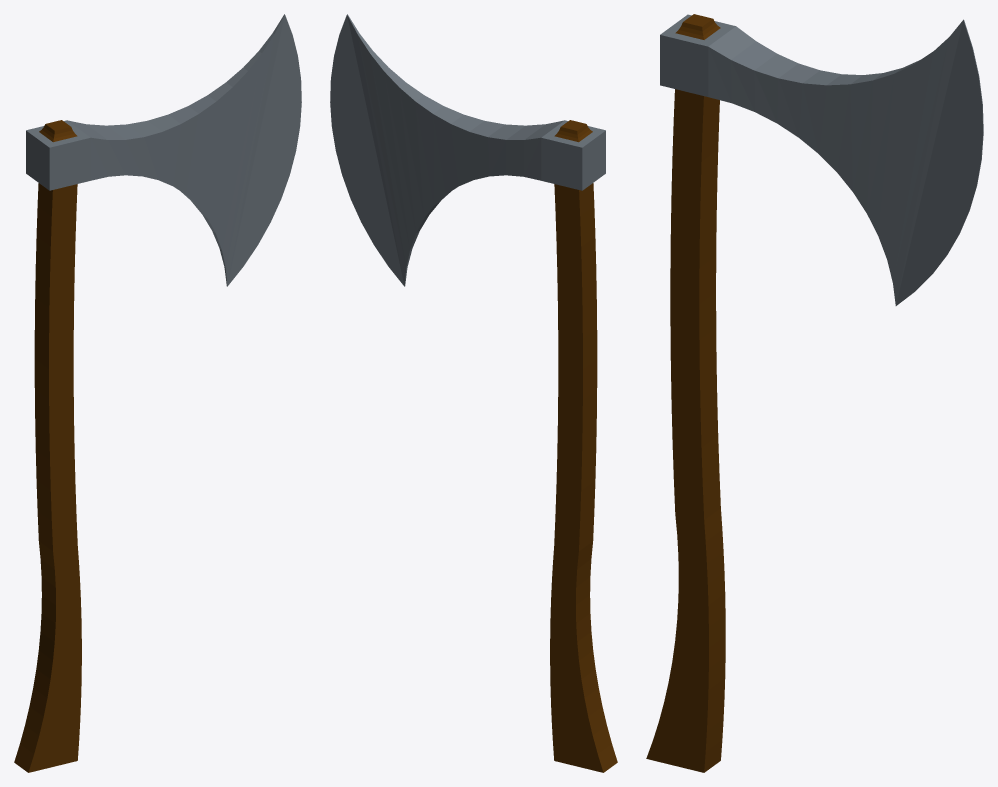
File: uploads_files_4400970_Axe.fbx
3 renders of one model, left to right at view 1: azimuth 30°, elevation 25°; view 2: azimuth 150°, elevation 25°; view 3: azimuth 330°, elevation 25°, orthographic. The views are drawn at different scales.
Parts seen in each view (by area): view 1: Model; view 2: Model; view 3: Model.
Boxes of the visible parts, box(x1,y1,x2,y2) form: Model: box(14, 14, 301, 772); Model: box(330, 14, 617, 772); Model: box(646, 14, 983, 772).
Size of the model in its own units: 34.05 by 80 by 5.
